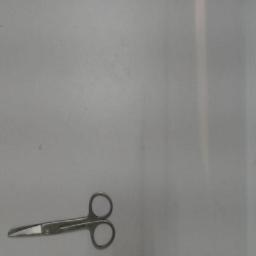Dressing Scissors: (3, 187, 121, 253)
